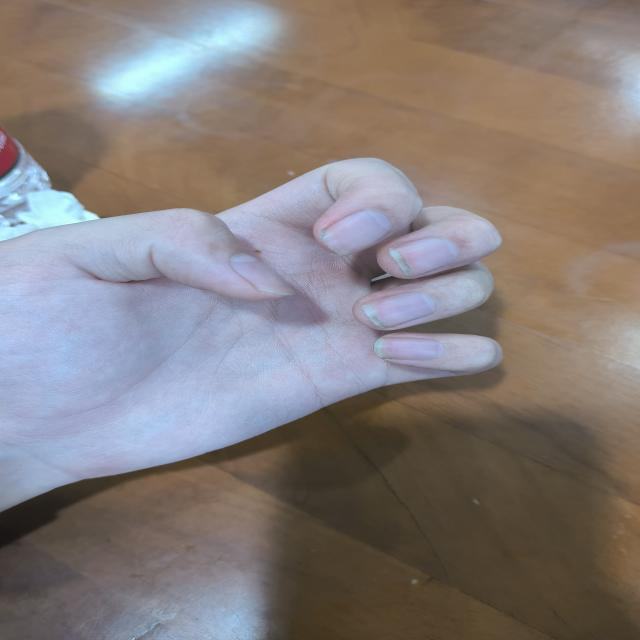Nail: (320, 210, 391, 256), (361, 292, 436, 329), (389, 238, 459, 275), (230, 255, 296, 294), (374, 337, 443, 360)
